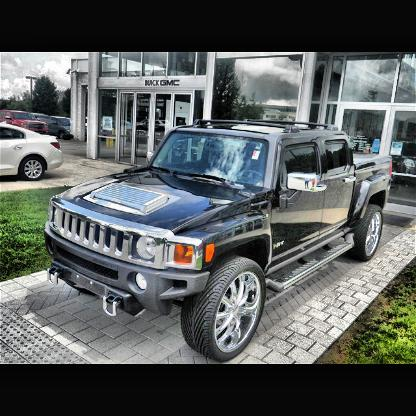HUMMER H3T Crew Cab 2010: (27, 107, 402, 363)
